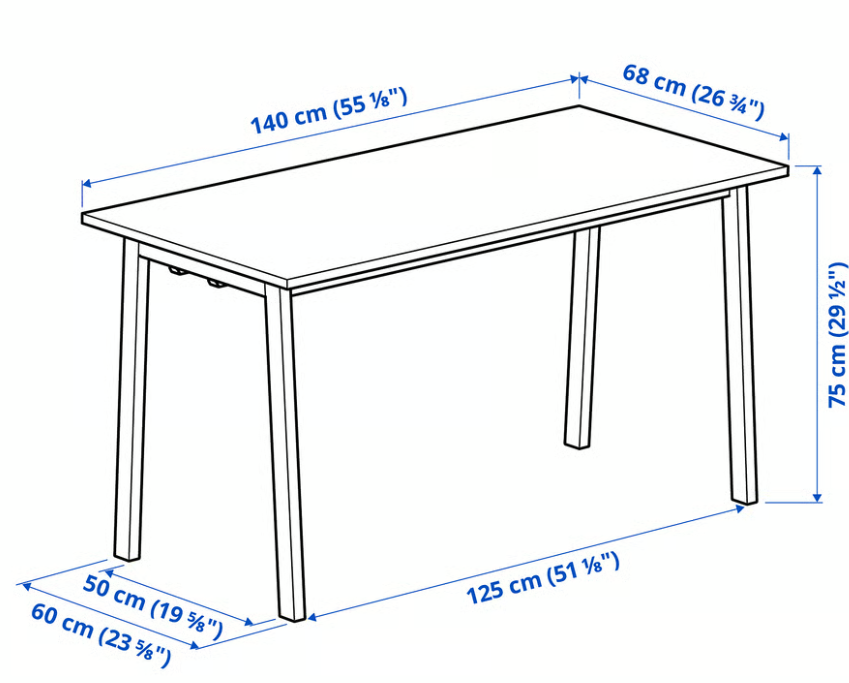table_legs: (264, 283, 305, 622), (114, 237, 151, 562), (722, 186, 757, 504), (565, 226, 600, 449)
table_support: (292, 190, 730, 296), (140, 242, 265, 295)
table_top: (81, 104, 789, 289)
